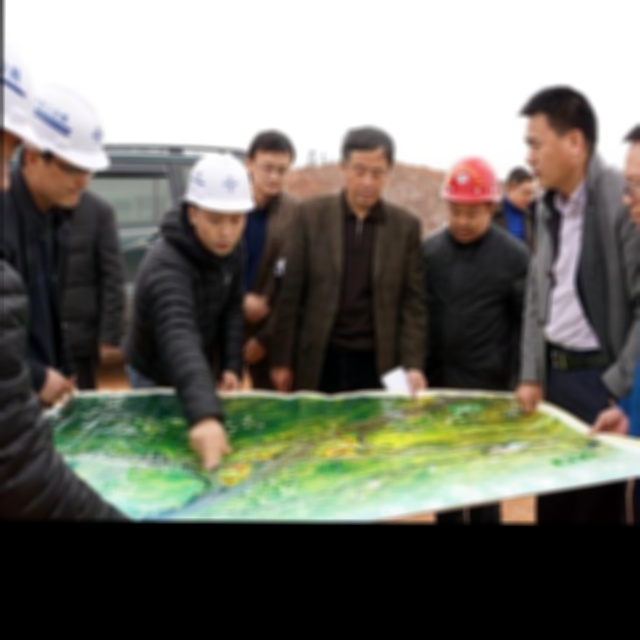Con_Casco: (187, 152, 253, 247), (443, 156, 503, 239)
Sin_Casco_Mascarrilla: (520, 89, 600, 185)
Sin_Chaleco: (293, 197, 421, 390)
